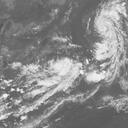cyclone: (90, 8, 124, 60)
